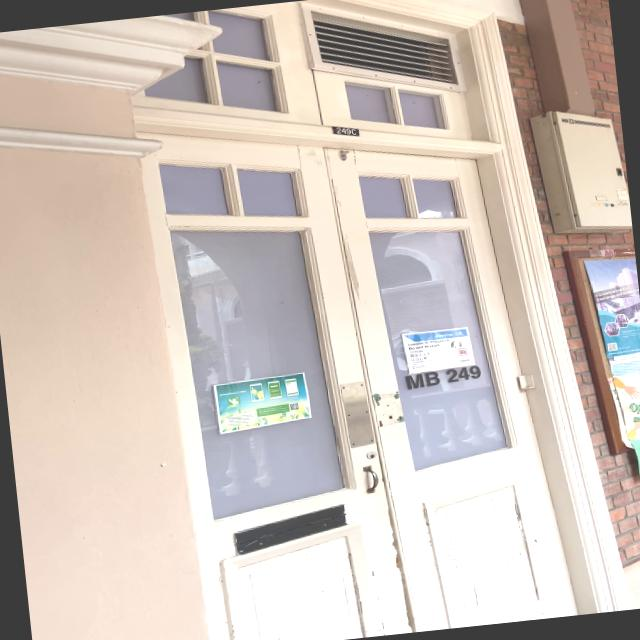room249c: (327, 121, 363, 140)
room249cWindow: (399, 366, 488, 390)
